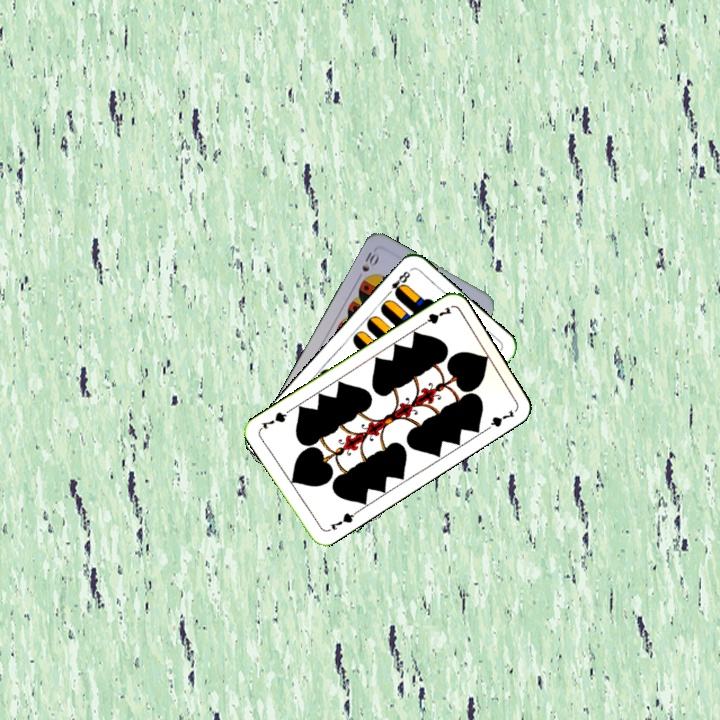E8: (383, 265, 414, 299)
G7: (416, 303, 454, 329), (325, 507, 359, 533)
S10: (353, 248, 381, 283)
